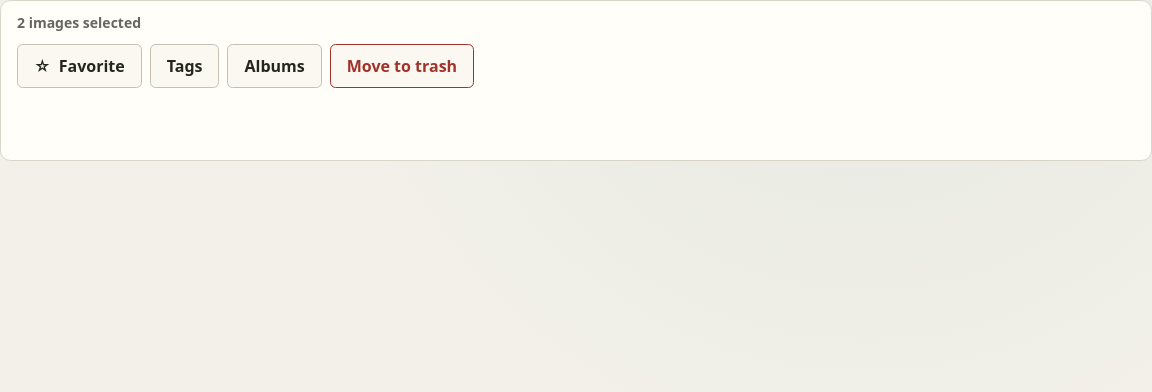
Test: curation actions › reports every image in a selection the bulk route accepted
The width and height of the screenshot is (1152, 392).
Click the button "Tags" at (185, 66), box [150,44,219,88]
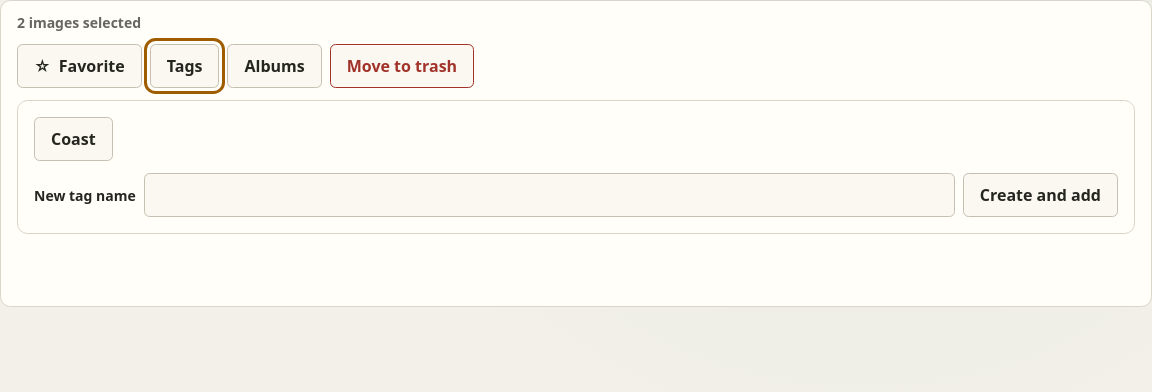
Click the button "Coast" at (73, 139), box [34,117,113,161]
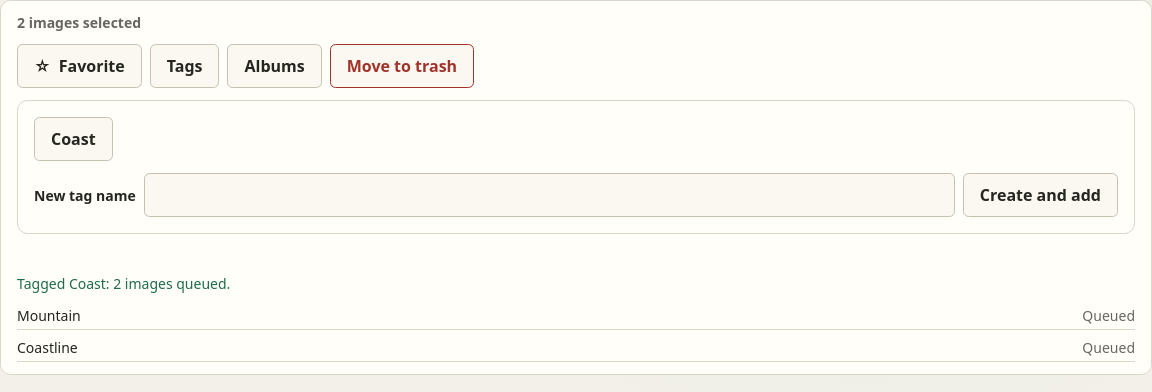
Now the message named "Curation result" reads "Tagged Coast: 2 images queued.", box [17,274,230,293]
Now the list named "Result for each image" shows "Coastline", box [17,338,78,357]
Now the list named "Result for each image" shows "Queued", box [1082,306,1135,325]
